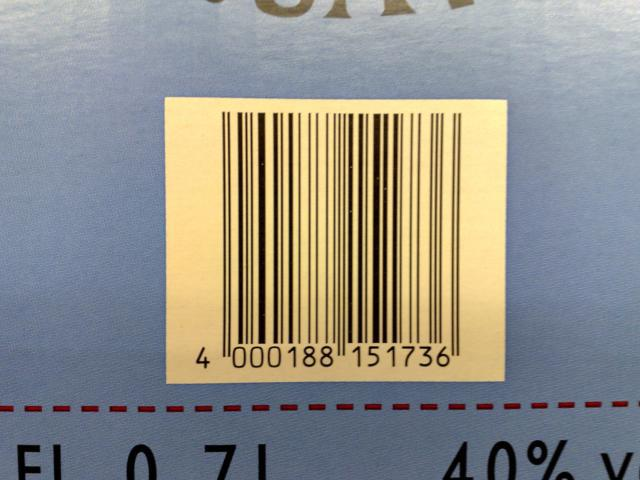Barkod: (218, 110, 462, 346)
